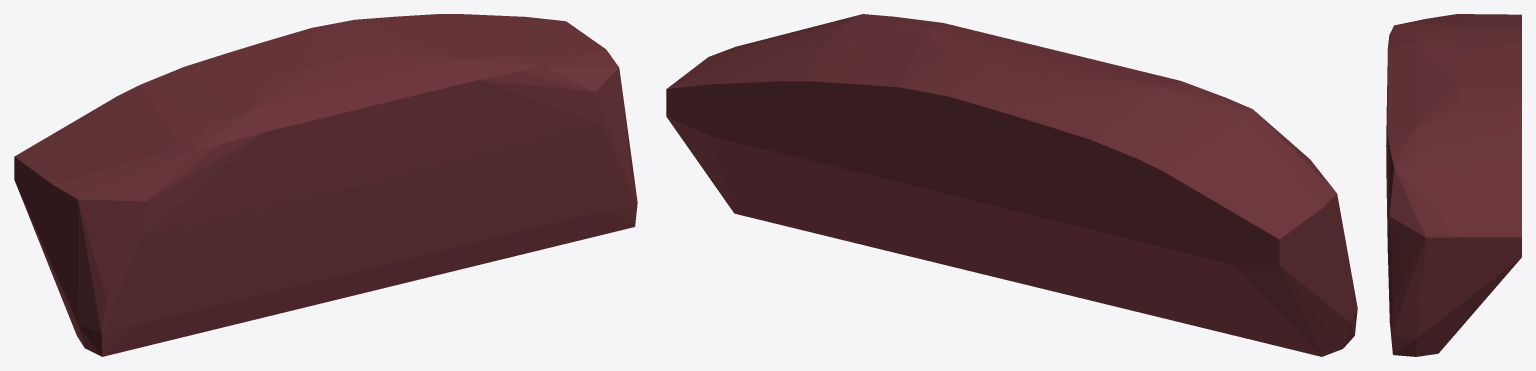
The model's file is right-shoulder-pitch-0_part_65.obj.
3 views of the same model, side by side, from view 1: azimuth 30°, elevation 25°; view 2: azimuth 150°, elevation 25°; view 3: azimuth 270°, elevation 25° (orthographic). The views are drawn at different scales.
Size of the model in its own units: 0.0268 by 0.00937 by 0.00686.
